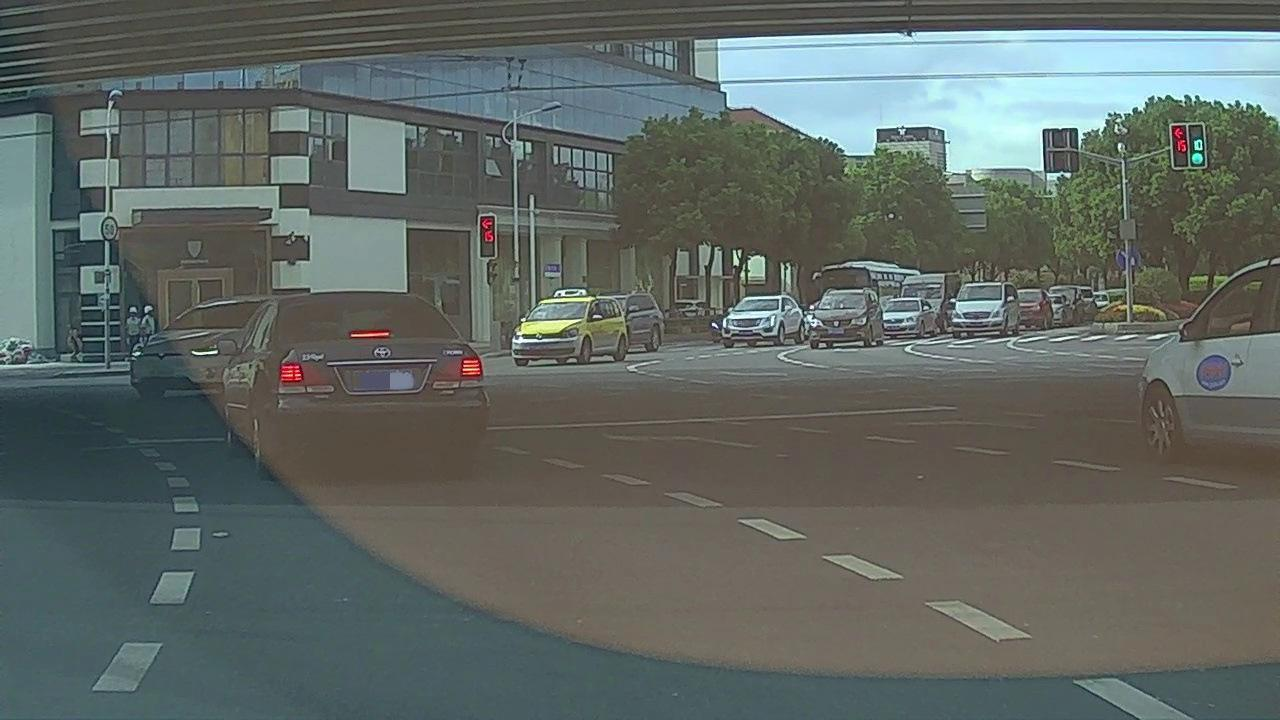traffic_light: (1171, 125, 1188, 168), (1188, 124, 1205, 167), (480, 216, 495, 257)
